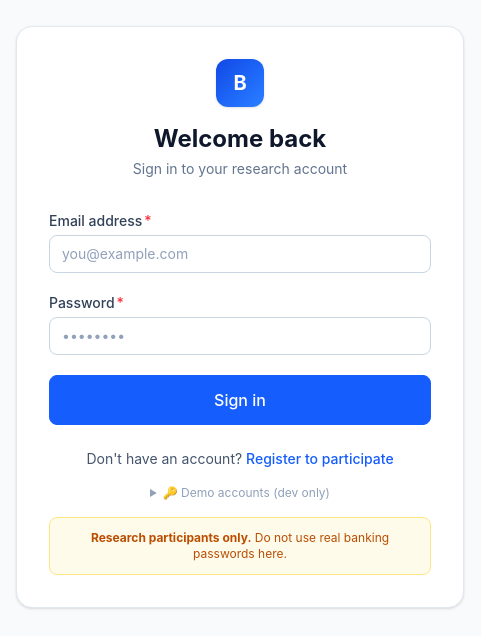
Test: LoginPage — form validation › shows password required error
Type "a@b.com" into the field labelled "Email address*" at coordinates (240, 254), box left=49, top=235, right=431, bottom=273
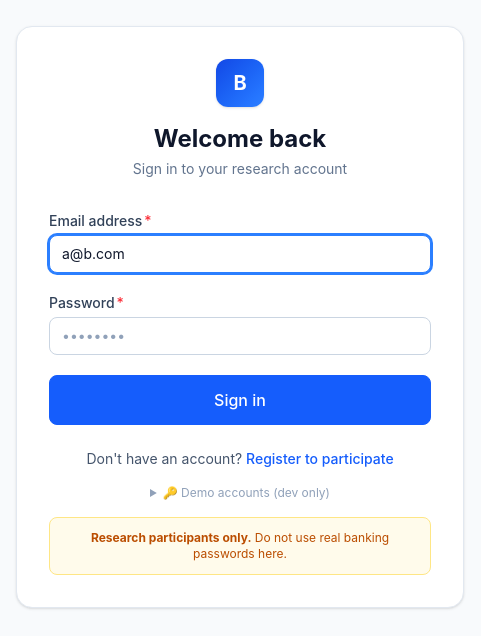
Click the button "Sign in" at coordinates (240, 400), box left=49, top=375, right=431, bottom=425
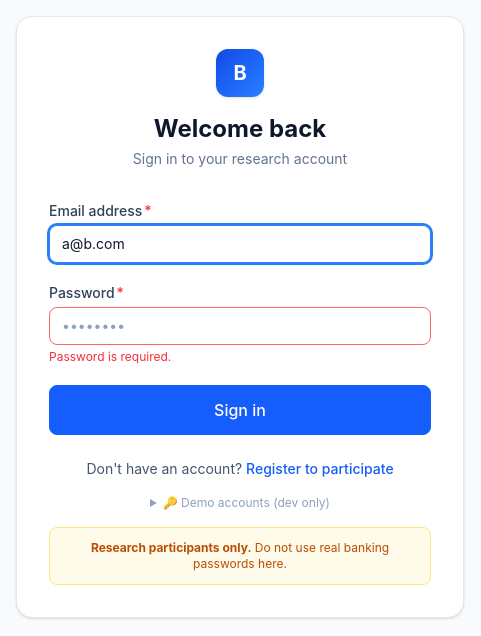
Now the text "Password is required." is shown, box left=49, top=349, right=171, bottom=364
